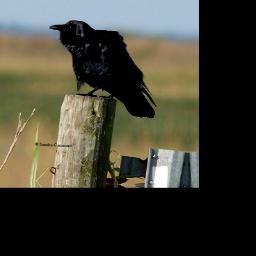Crow: (43, 19, 164, 120)
